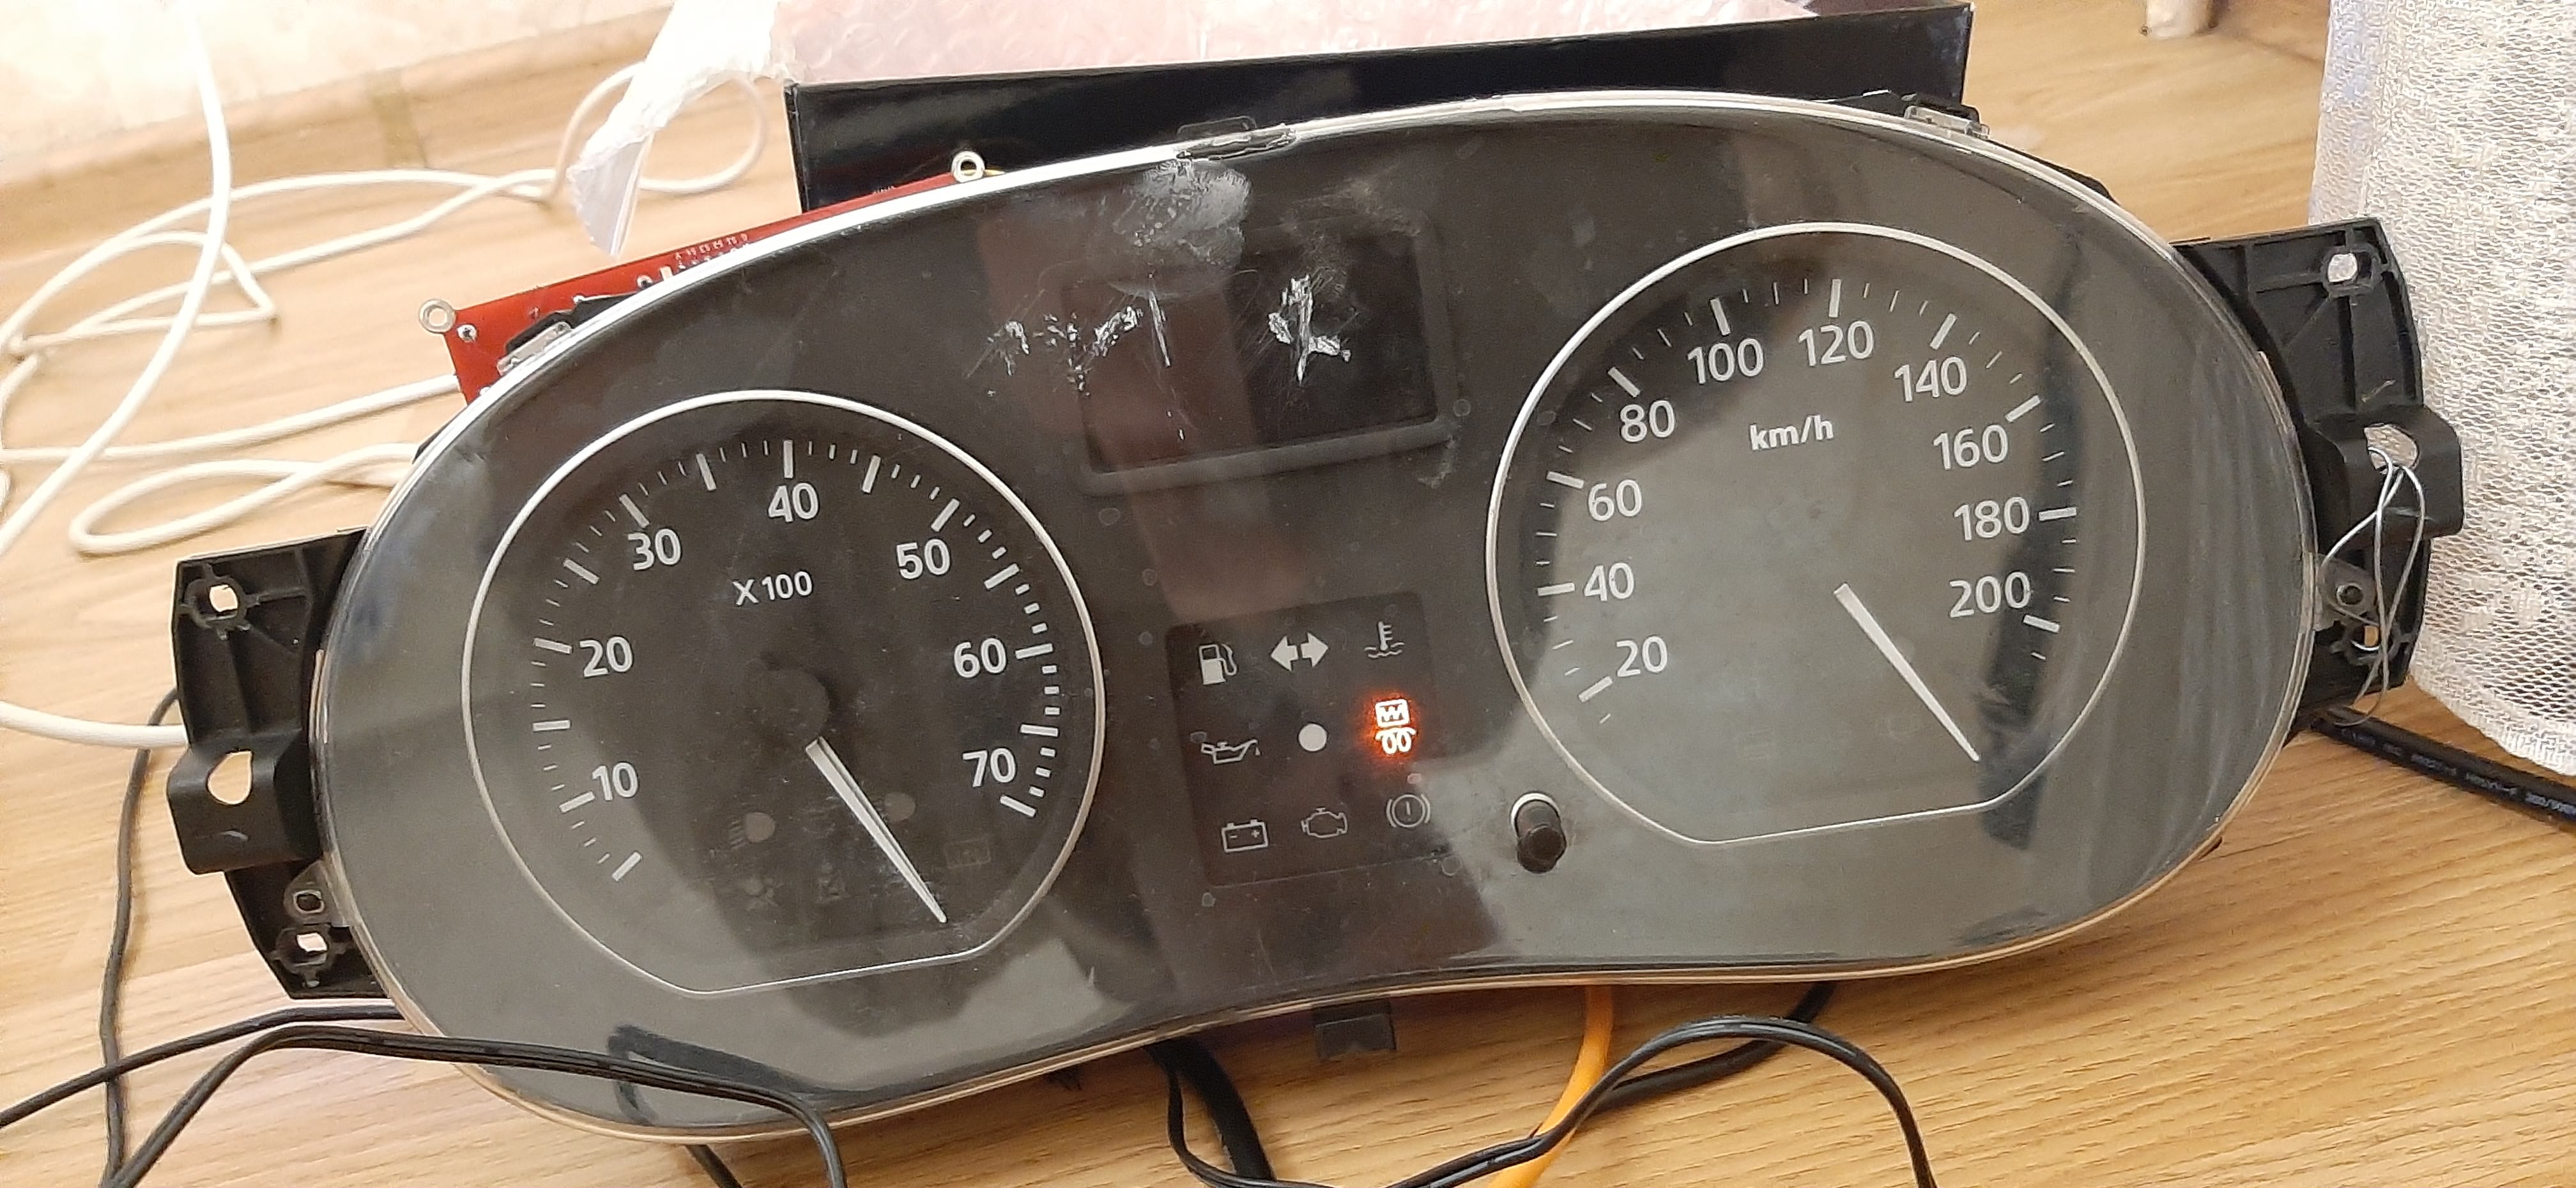diesel8: (1372, 698, 1418, 756)
